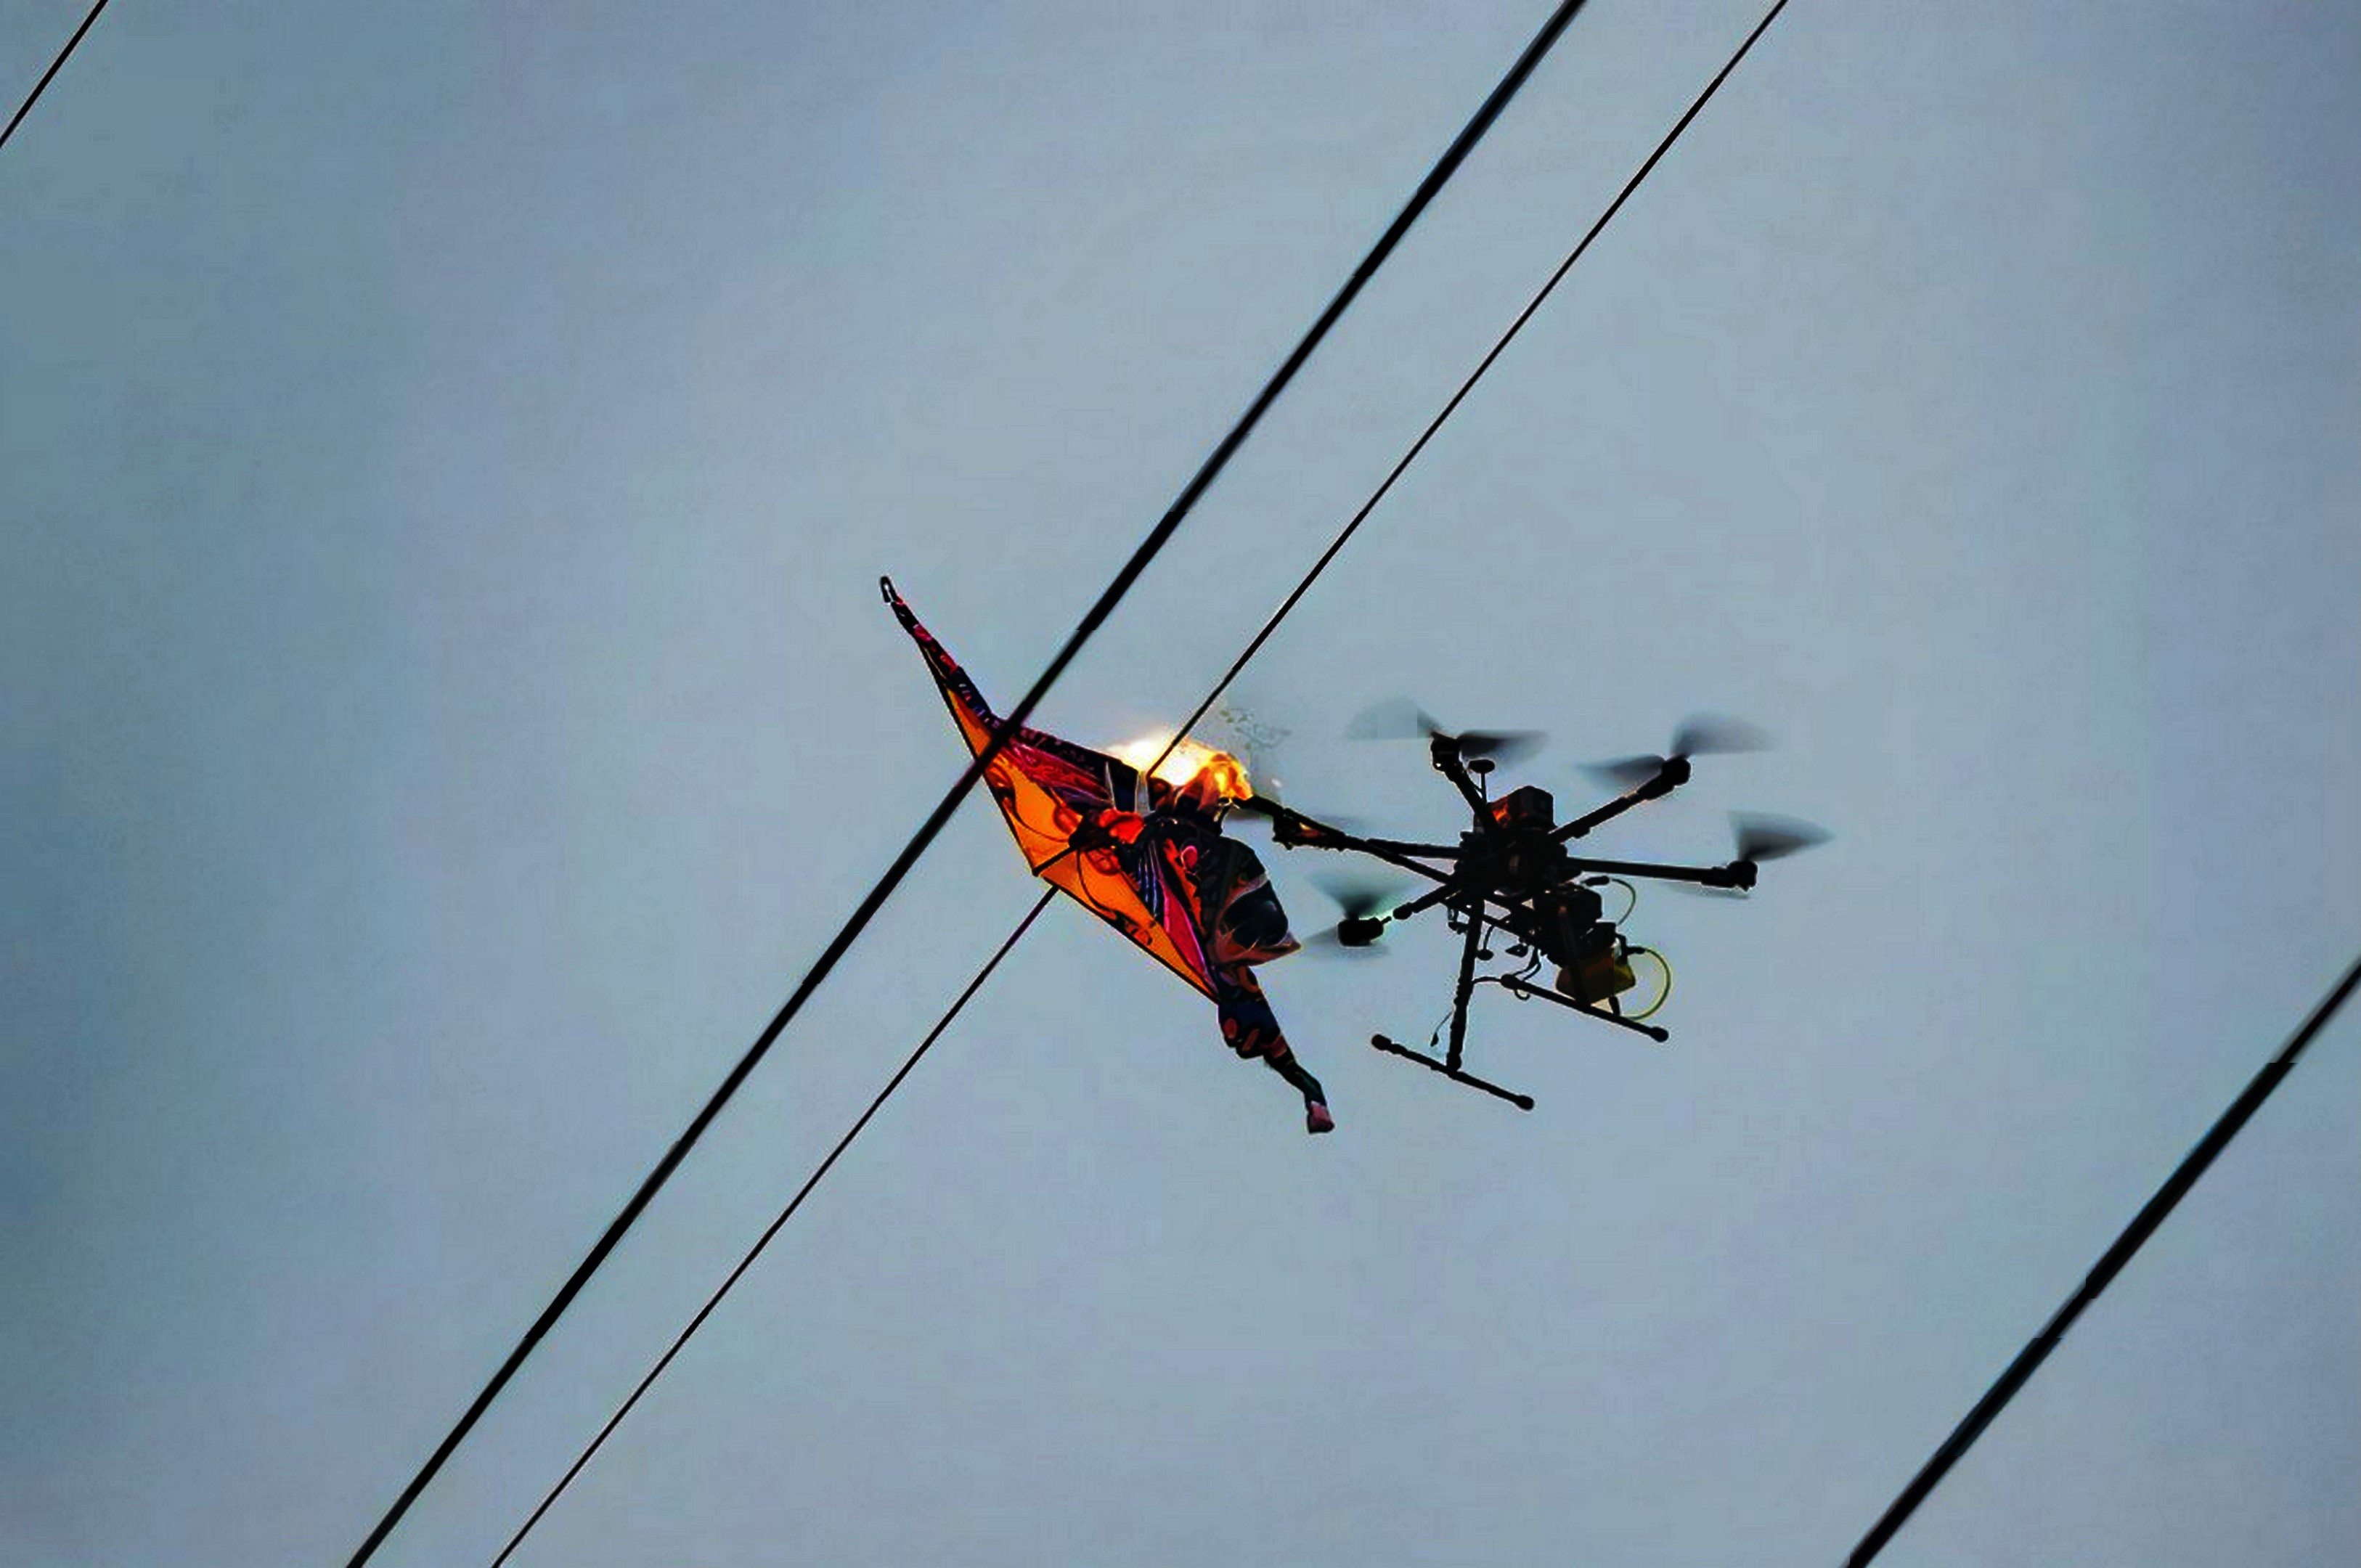wire foreign body: (856, 560, 1355, 1179)
